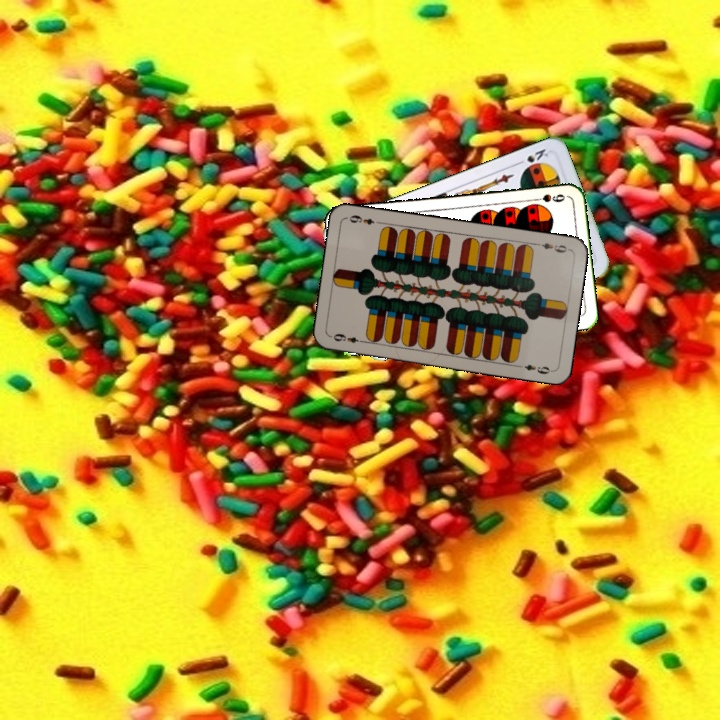E9: (531, 238, 572, 255), (329, 329, 368, 346)
S9: (528, 190, 568, 205)
SK: (512, 144, 551, 168)
